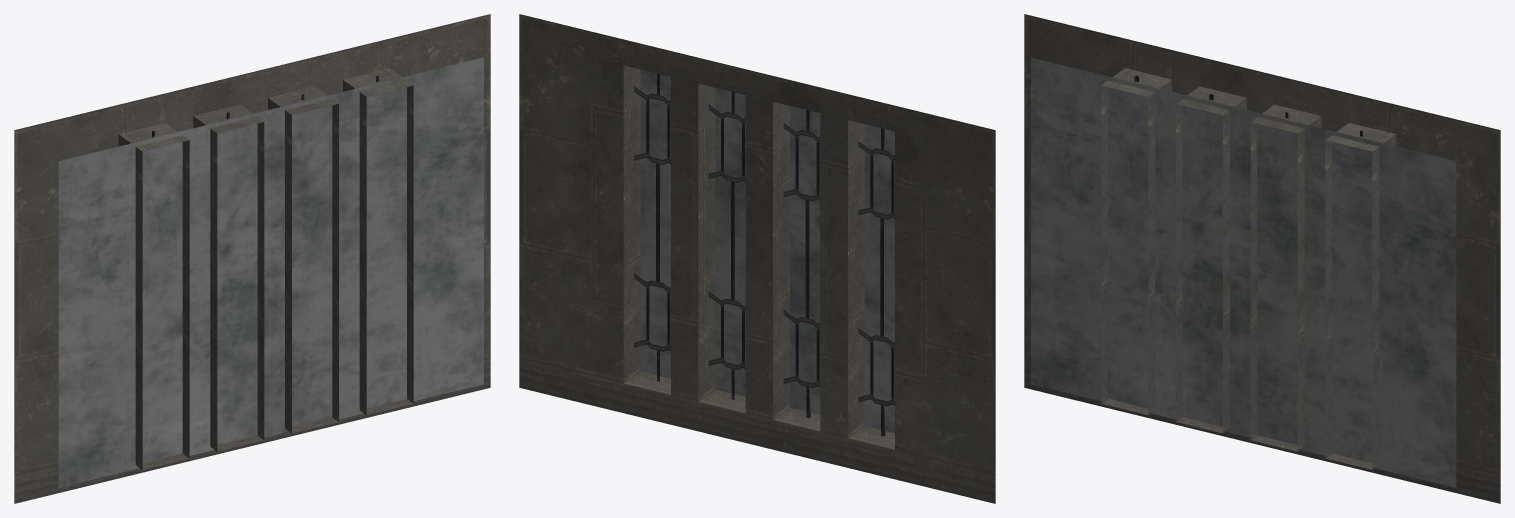
The model's file is ARC0910078.fbx.
3 views of the same model, side by side, from view 1: azimuth 30°, elevation 25°; view 2: azimuth 150°, elevation 25°; view 3: azimuth 330°, elevation 25° (orthographic).
Visible parts, largest first — view 1: smARC0910078; view 2: smARC0910078; view 3: smARC0910078.
Boxes of the visible parts, x1,y1,x2,y2 form: smARC0910078: (14, 14, 490, 503); smARC0910078: (519, 14, 995, 503); smARC0910078: (1024, 14, 1500, 503).
Bounding box in the file's own units: 400 × 300 × 37.28.
Materials: 1 (1 with a texture image).
